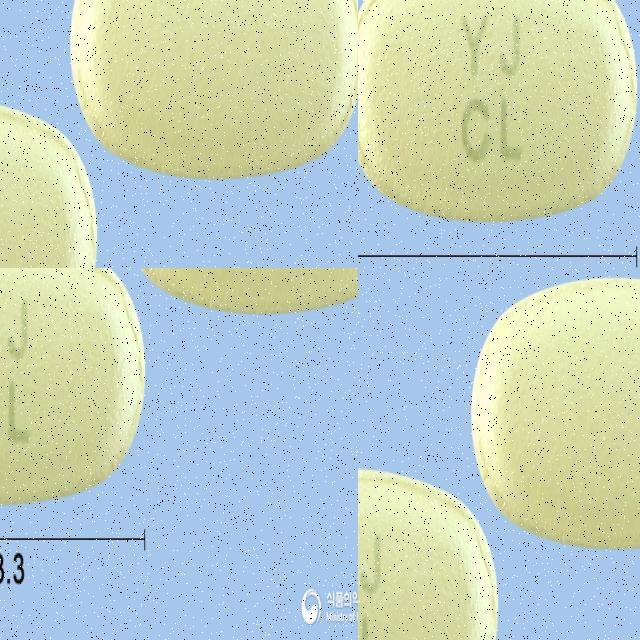Ciflo: (80, 0, 333, 268)
Cirok -500mg: (131, 268, 358, 510), (0, 268, 99, 508)
Clacid -500mg: (466, 268, 640, 555), (358, 464, 506, 640)
Clocide: (358, 0, 632, 226)
